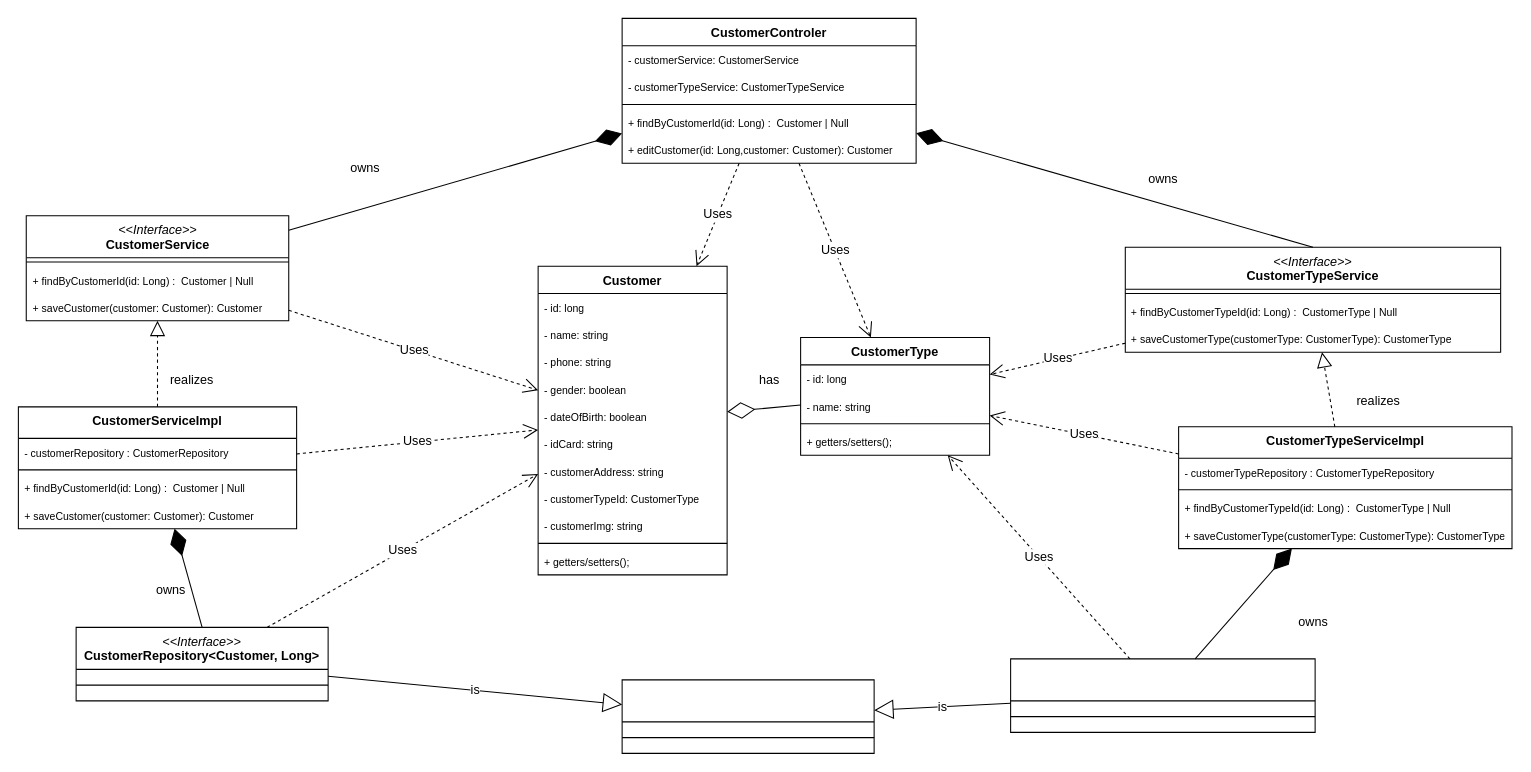
The diagram is 1531 pixels wide and 772 high, and some of its shapes have lost their labels. Each missing label, with the centre of its shape:
"<<Interface>> CustomerTypeRepository<CustomerType, Long>" belongs at pixel 1162 695.
"<<Interface>> JpaRepository" belongs at pixel 747 716.
